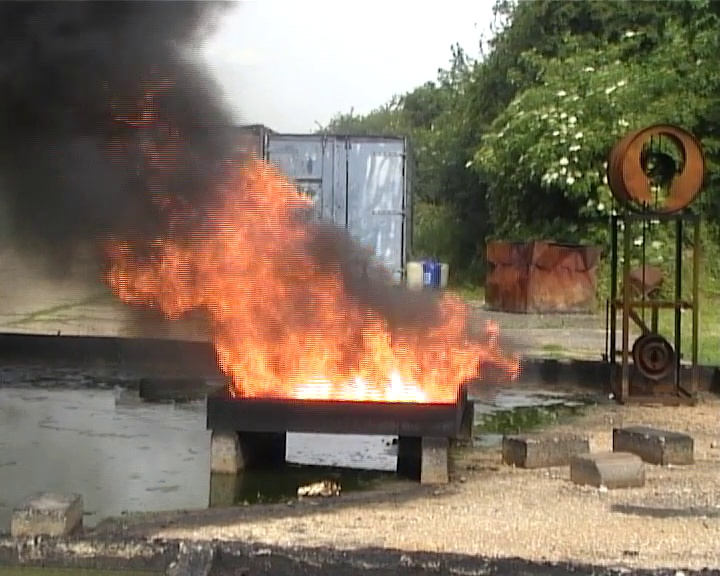fire: (107, 158, 493, 399)
